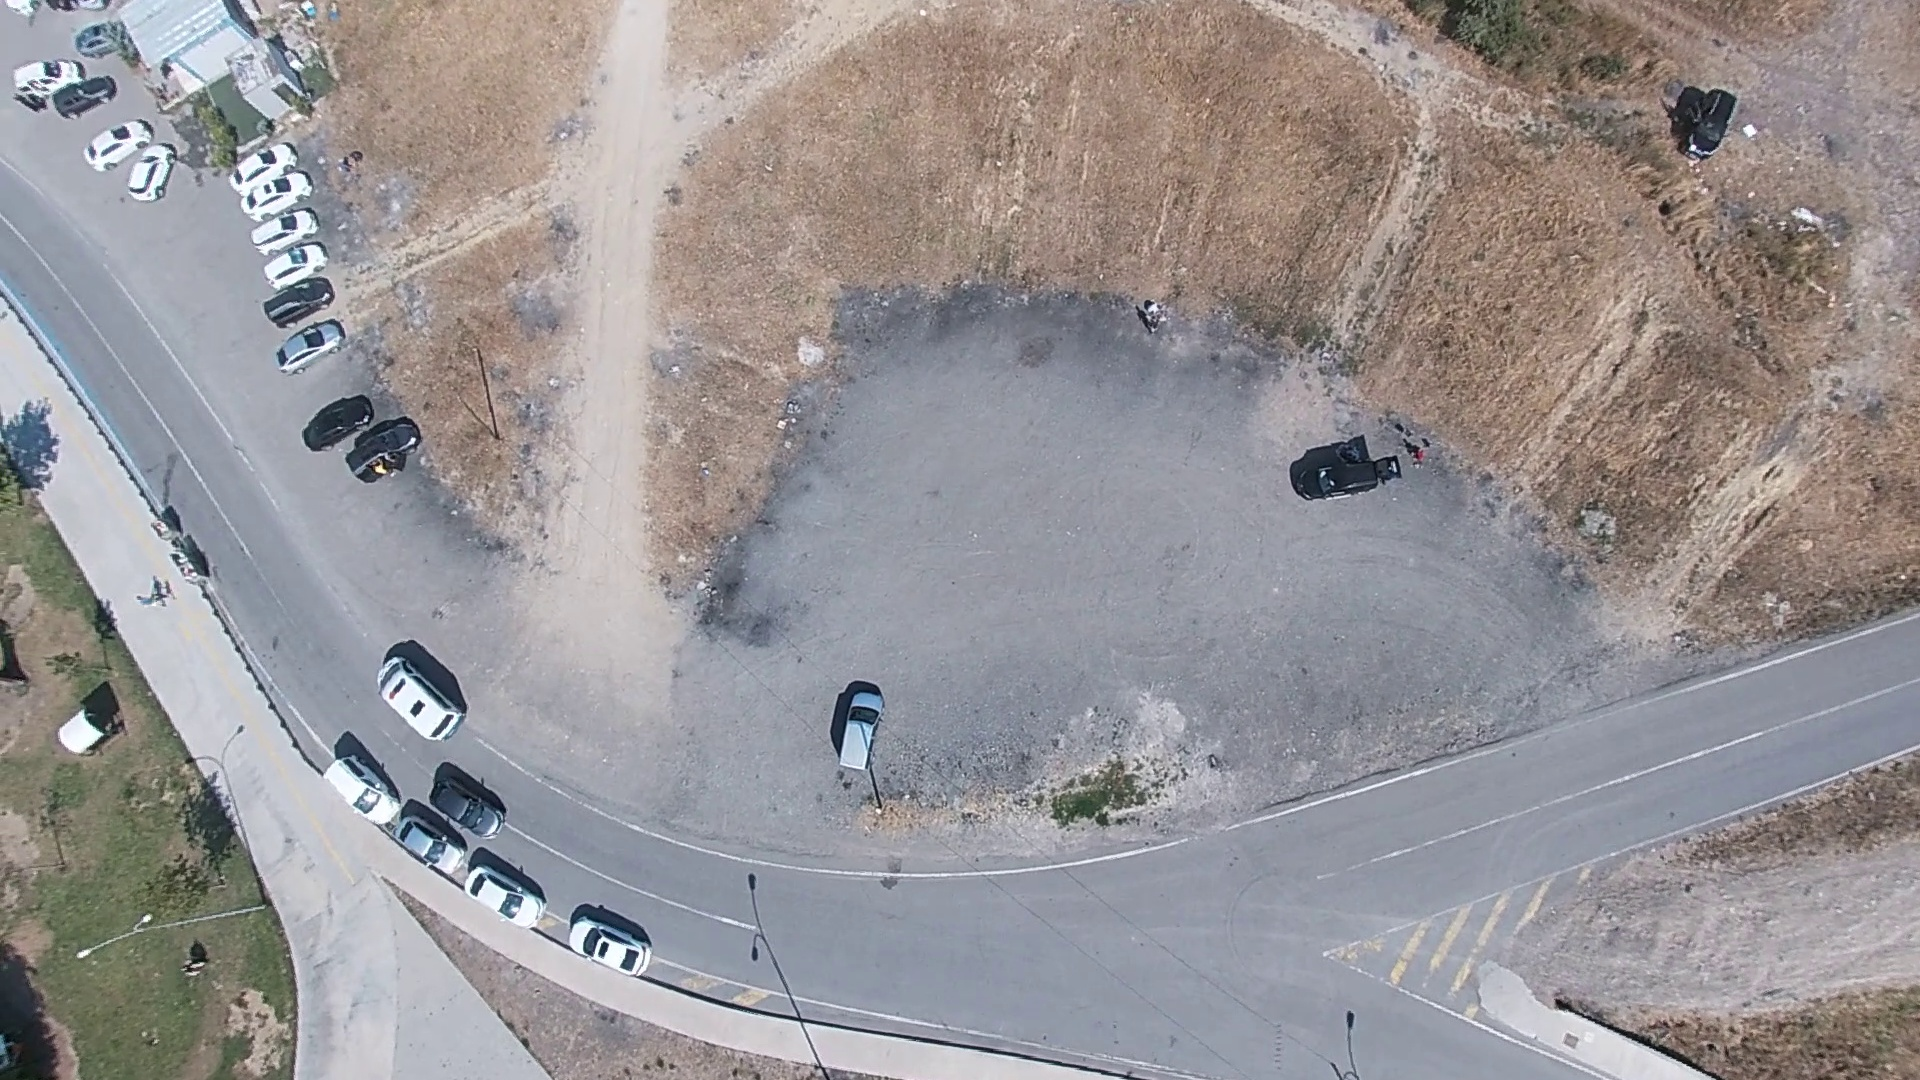araba: (370, 642, 463, 747), (465, 848, 545, 929), (303, 381, 387, 457), (568, 903, 648, 978), (435, 755, 507, 832), (341, 410, 418, 481), (401, 803, 467, 884), (225, 129, 314, 186), (1297, 450, 1391, 503), (1675, 84, 1741, 158), (84, 110, 162, 171), (828, 687, 886, 768), (118, 132, 182, 202), (10, 50, 91, 101), (246, 165, 329, 213), (245, 201, 324, 251), (265, 233, 332, 288), (52, 68, 125, 115), (269, 319, 336, 369)
insan: (1138, 296, 1169, 336)
